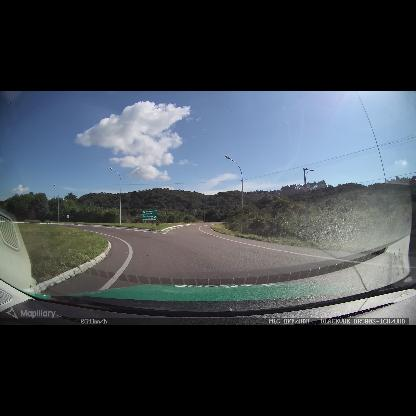O-MP: (156, 219, 159, 226)
R-24a: (66, 214, 70, 218)
